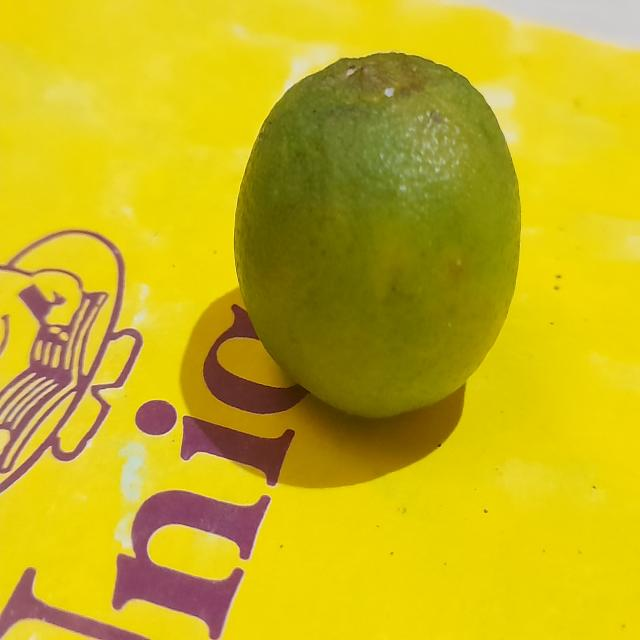heathy: (232, 49, 518, 427)
